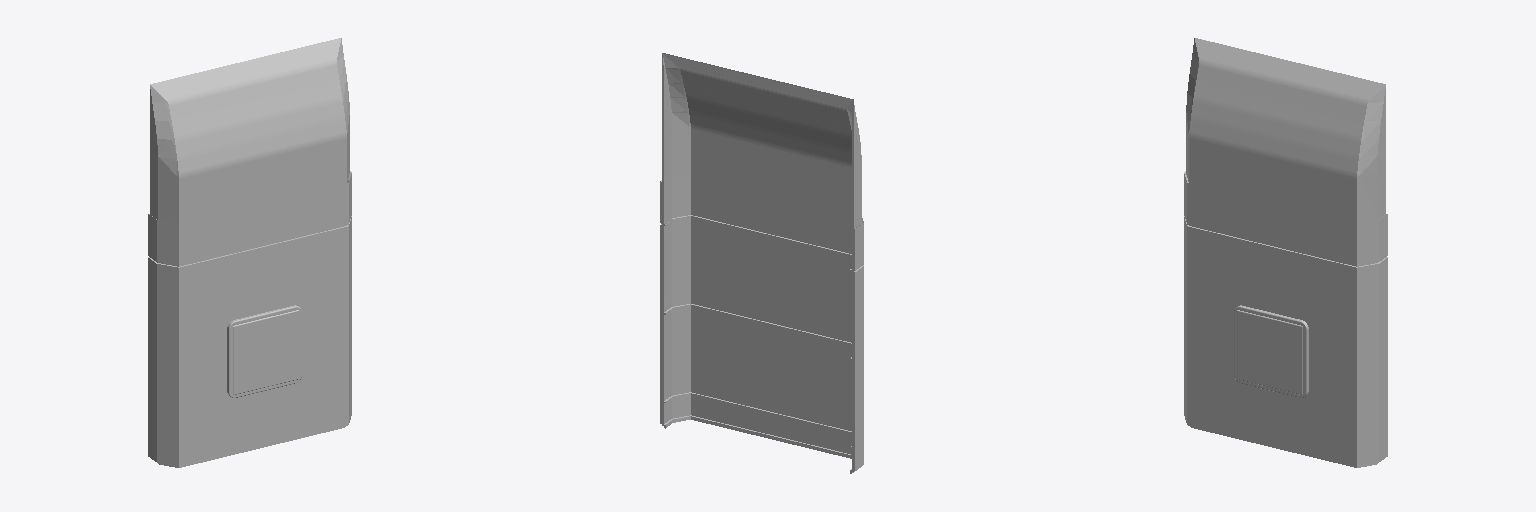
Rendered from NovaBus-LFSe-roof.sec003.obj.
3 renders of one model, left to right at view 1: azimuth 30°, elevation 25°; view 2: azimuth 150°, elevation 25°; view 3: azimuth 330°, elevation 25°, orthographic.
Parts seen in each view (by area): view 1: roof.003; view 2: roof.003; view 3: roof.003.
Boxes of the visible parts, x1=… form: roof.003: x1=148, y1=38, x2=351, y2=467; roof.003: x1=660, y1=53, x2=863, y2=473; roof.003: x1=1184, y1=38, x2=1387, y2=467.
Size of the model in its own units: 0.1325 by 0.2433 by 0.0241.